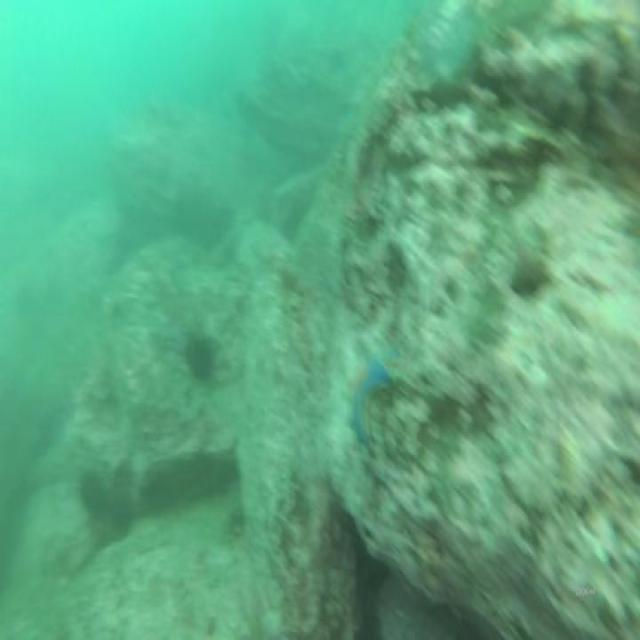echinus: (73, 458, 115, 525), (182, 324, 225, 389)
starfish: (345, 343, 398, 461)
